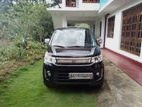car: (38, 23, 109, 94)
